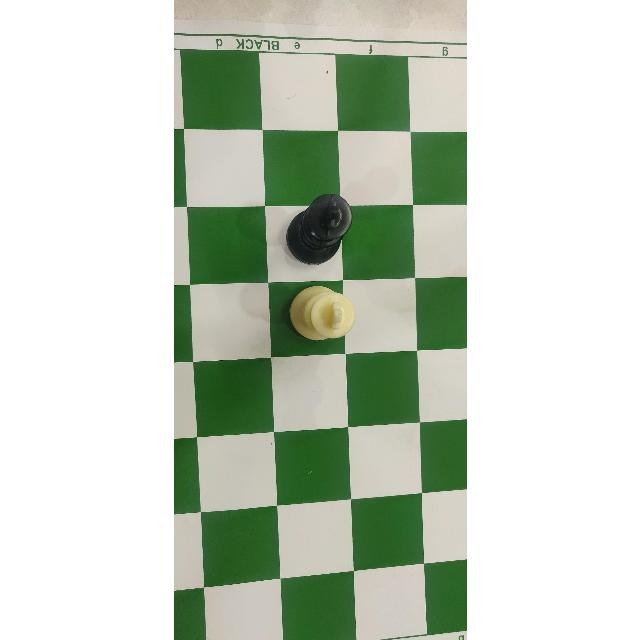black-king: (283, 186, 351, 261)
white-king: (284, 282, 356, 347)
